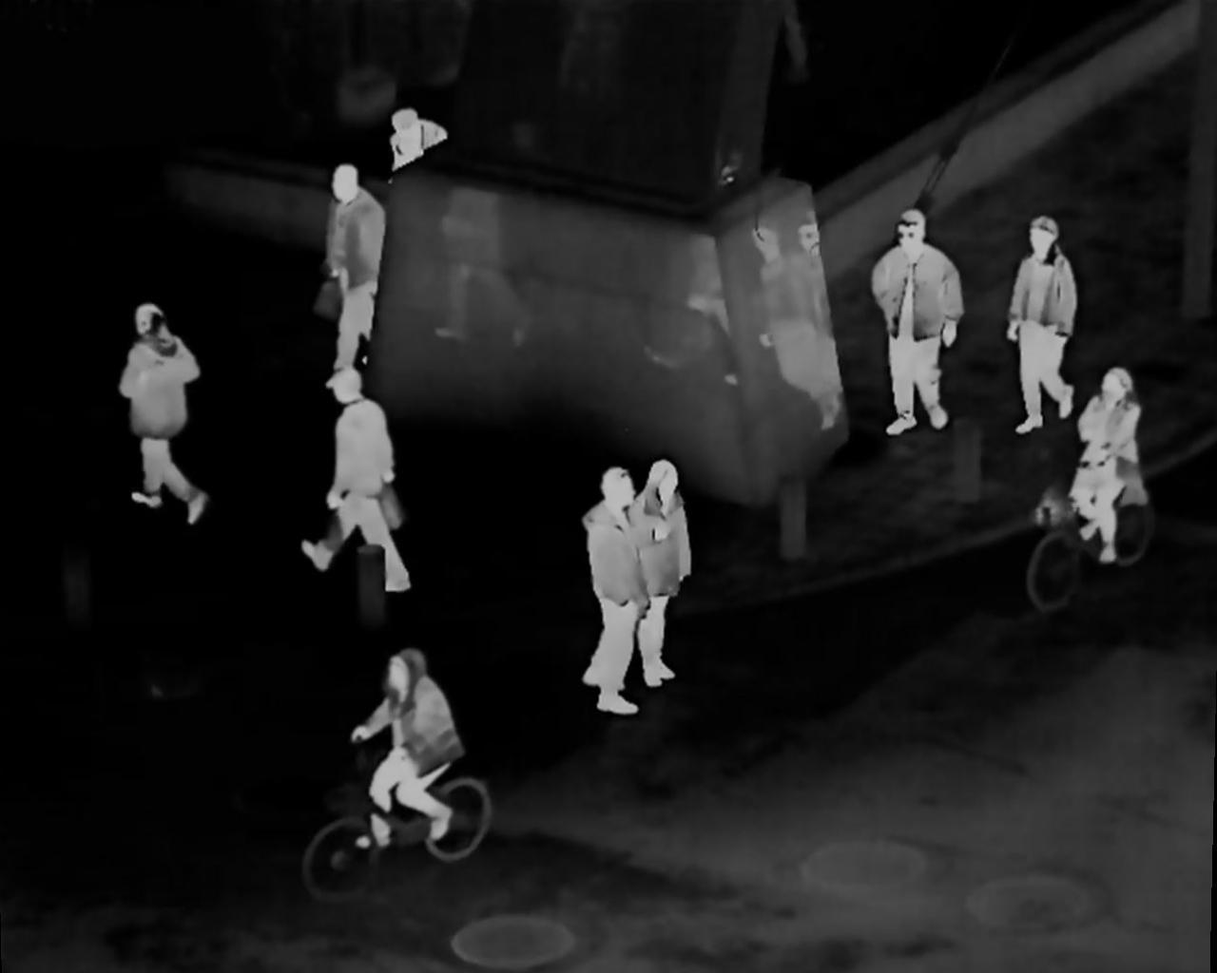person: (348, 649, 460, 850), (112, 303, 206, 516), (317, 372, 400, 599), (313, 162, 400, 375), (881, 213, 956, 426), (622, 459, 692, 681), (588, 463, 650, 712), (1072, 370, 1144, 566), (1009, 214, 1071, 432)
